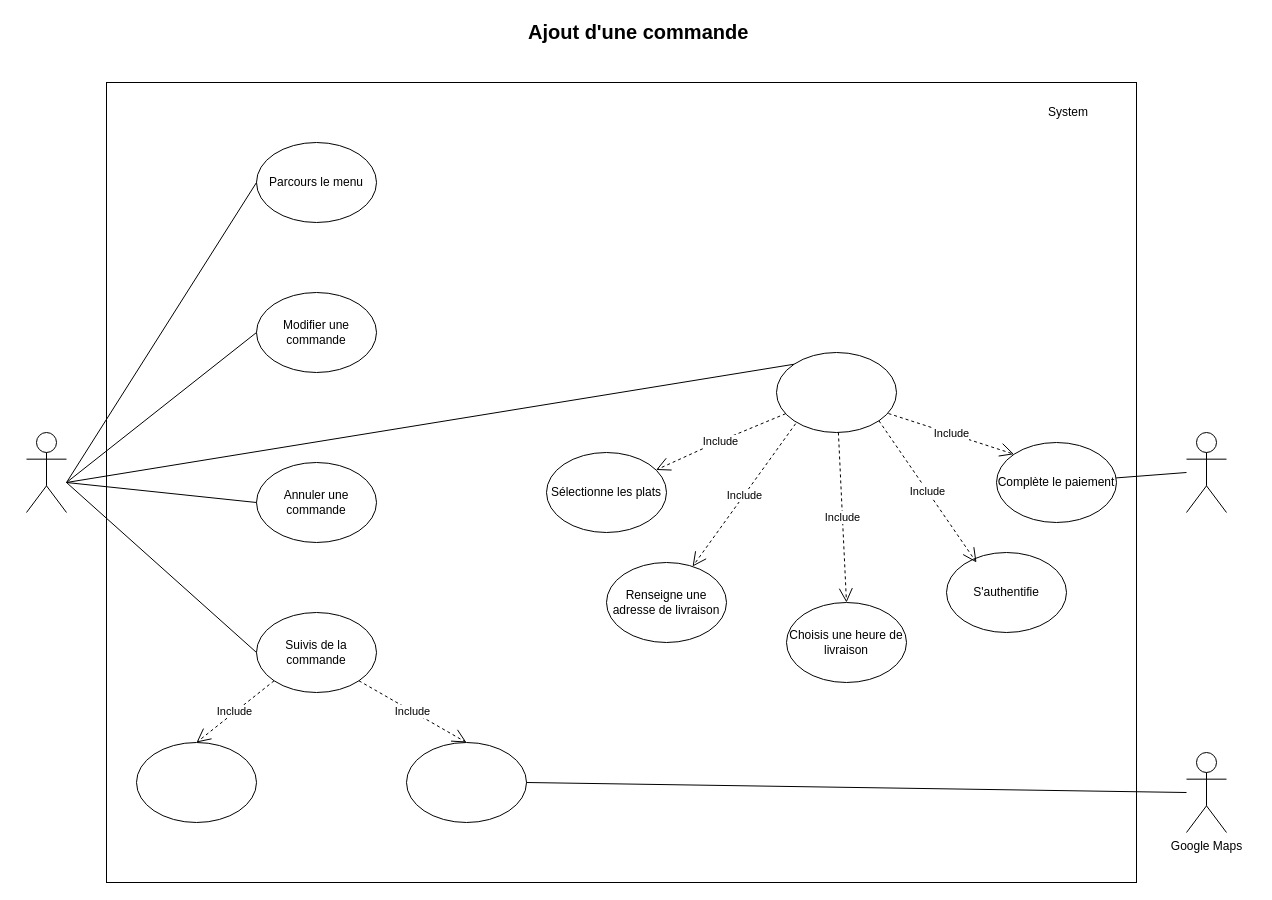
The diagram is 1272 pixels wide and 900 high, and some of its shapes have lost their labels. The centre of each missing label's shape, as x and y in pixels:
"Consulte le statut et les infos de la commande" goes at (x=196, y=782).
"Créer une commande" goes at (x=836, y=392).
"Estimation du temps de livraison" goes at (x=466, y=782).
"Systeme bancaire" goes at (x=1206, y=472).
"Utilisateurs" goes at (x=46, y=472).
